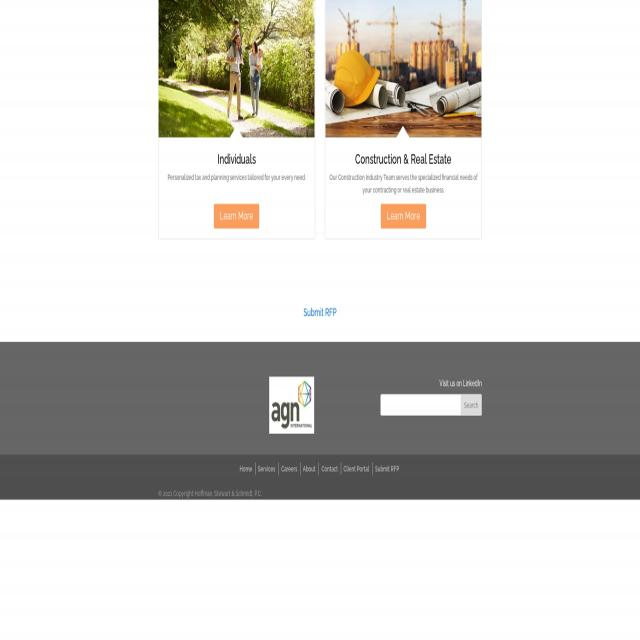button: (159, 0, 315, 138), (326, 0, 482, 138), (270, 377, 314, 432), (213, 203, 260, 229), (380, 203, 426, 229), (298, 300, 342, 325), (462, 394, 482, 416)
field: (380, 394, 461, 416)
